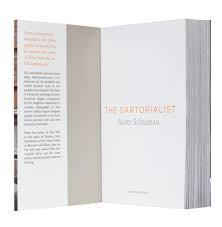Paper: (4, 13, 222, 222)
